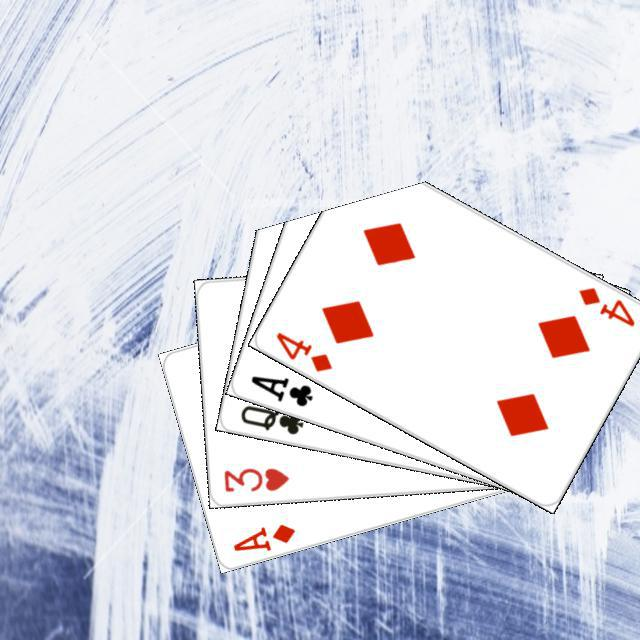3h: (218, 463, 291, 494)
4d: (271, 327, 334, 374), (573, 282, 637, 328)
Ac: (245, 370, 315, 408)
Ad: (228, 519, 297, 553)
Qc: (235, 390, 315, 436)
